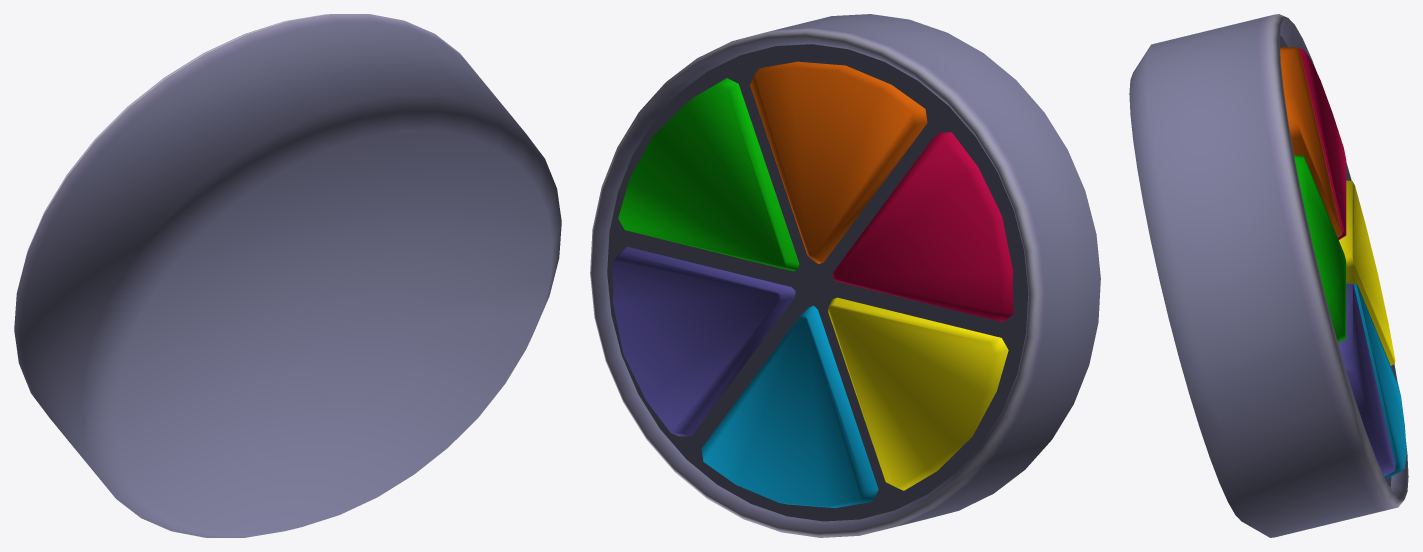
Rendered from WP_MISC_PS2SaveGame.ico.obj.
The picture shows the model from 3 angles, left to right: view 1: azimuth 30°, elevation 25°; view 2: azimuth 150°, elevation 25°; view 3: azimuth 270°, elevation 25°; orthographic projection. The views are drawn at different scales.
Bounding box in the file's own units: 4.65 × 4.79 × 2.55.
1 material, 1 textured.
